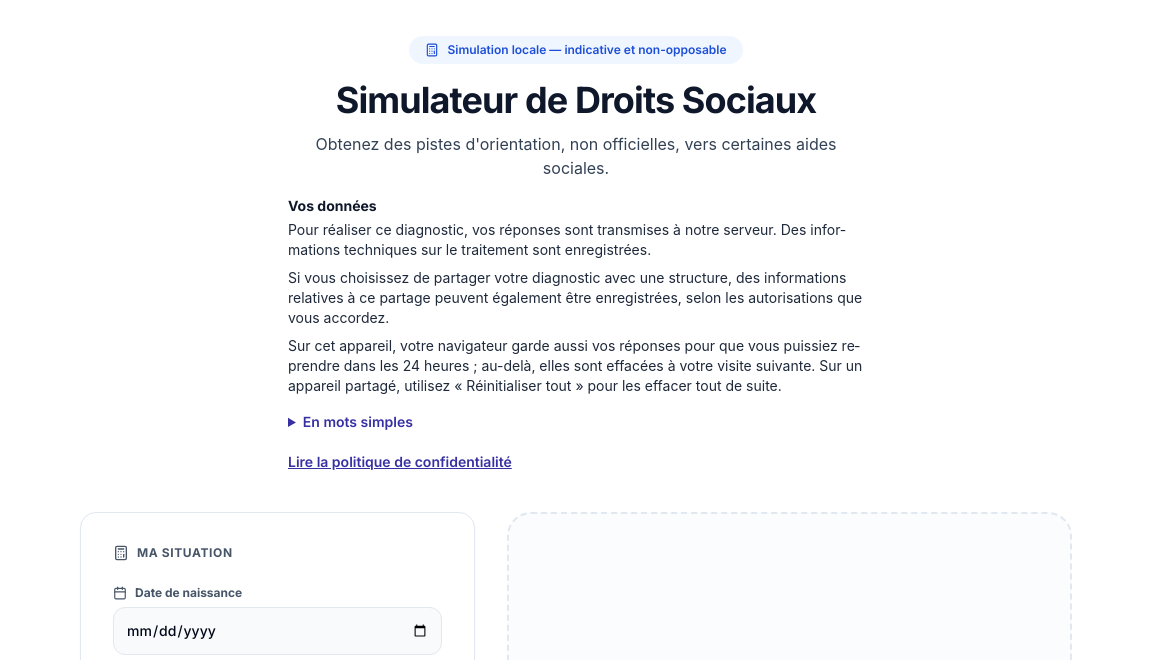
Test: U2 — no amount, total or entitlement wording reaches the DOM, even if the response still carries legacy fields › renders the contract states only
The image size is (1152, 660).
Type "1992-03-10" into the date field with id "diag-birthdate".
click(277, 631); type("1992-03-10")  # box [113,607,442,655]
(page scrolled)
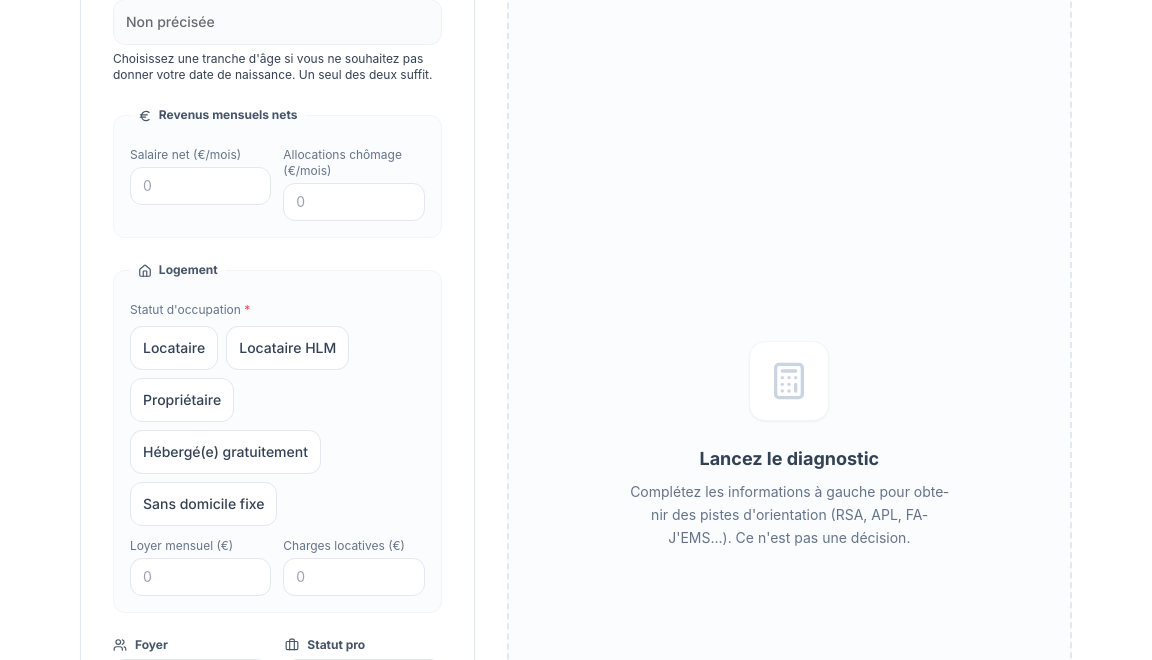
Click the radio button labelled "Locataire".
click(174, 348)  # box [130,326,218,370]
(page scrolled)
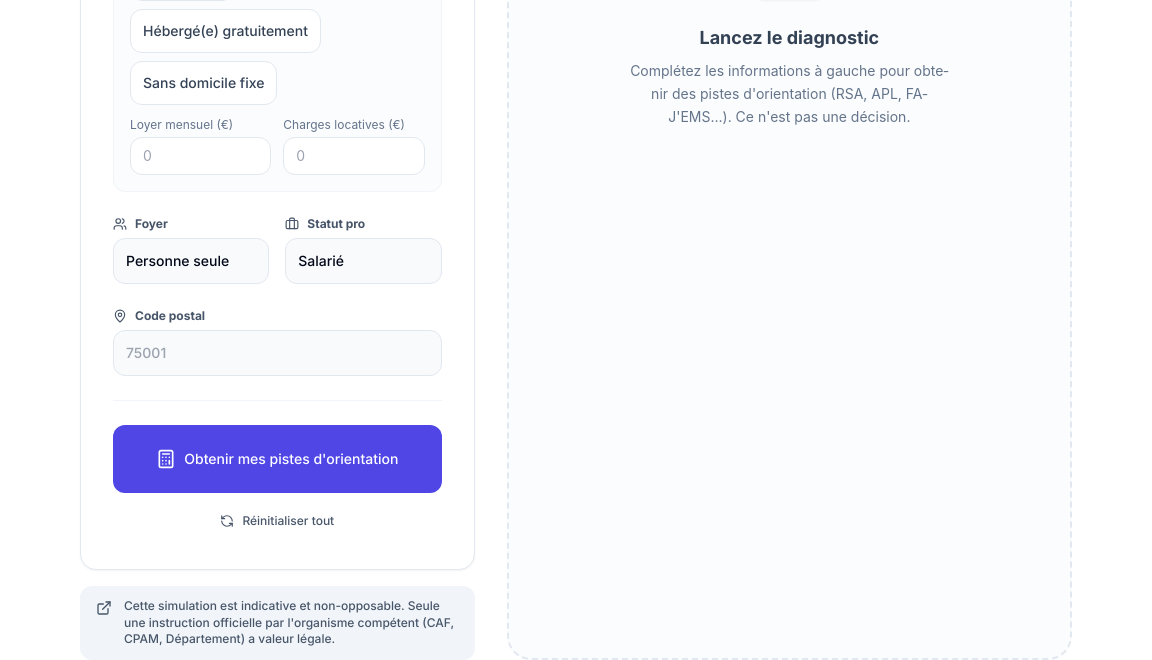
Click the button with id "diag-calculate-btn".
click(277, 459)  # box [113,425,442,493]
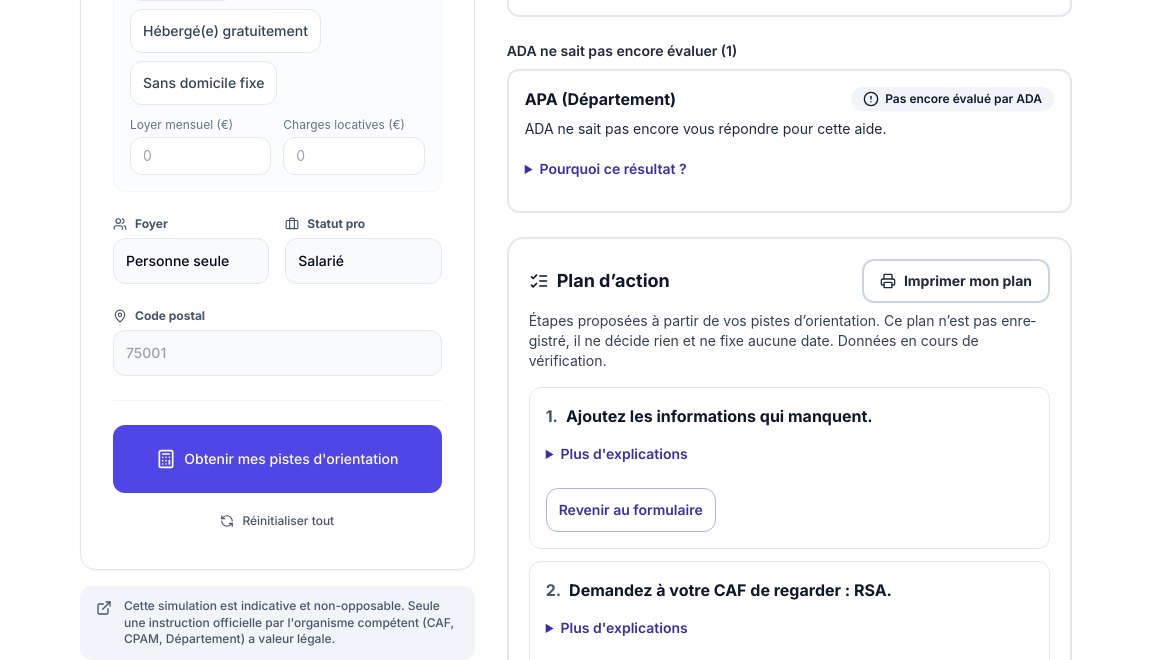
Result: the element with test id "assessment-state-apa" reads "Pas encore évalué par ADA" at [885,91,1042,106]
